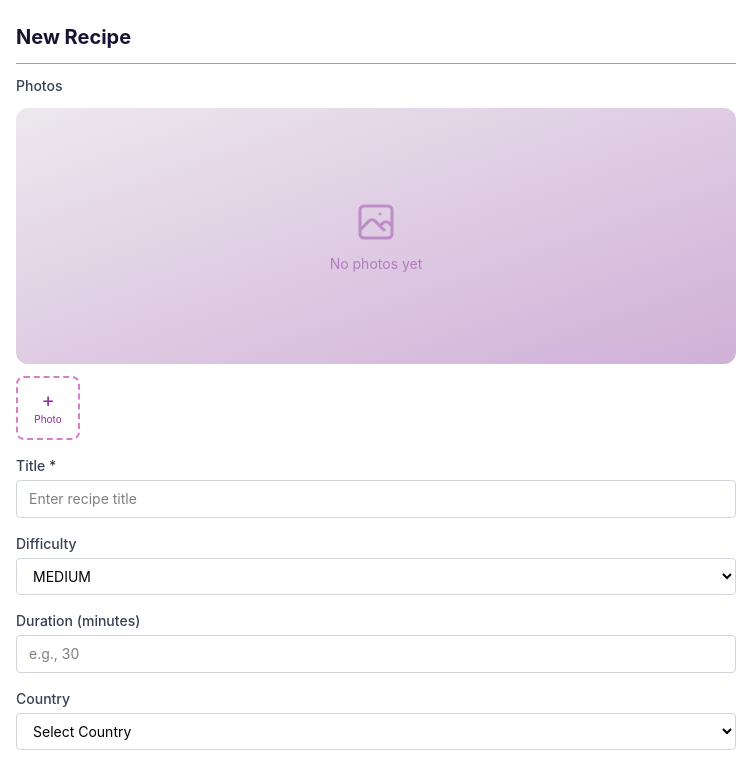
Test: RecipeFormPage — create mode › enables submit button when title is typed
This screenshot has width=753, height=767.
Step 1. Type "Pasta Carbonara" into the field with placeholder "Enter recipe title" → coordinates (376, 499), box [16, 480, 736, 518]
(page scrolled)
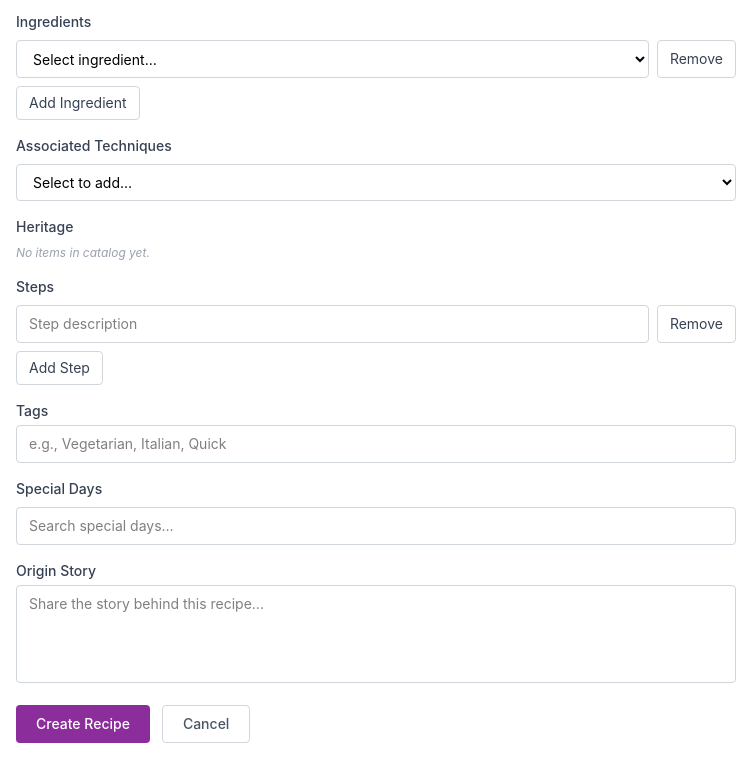
Check: the button "Create Recipe" is enabled, box [16, 705, 150, 743]
